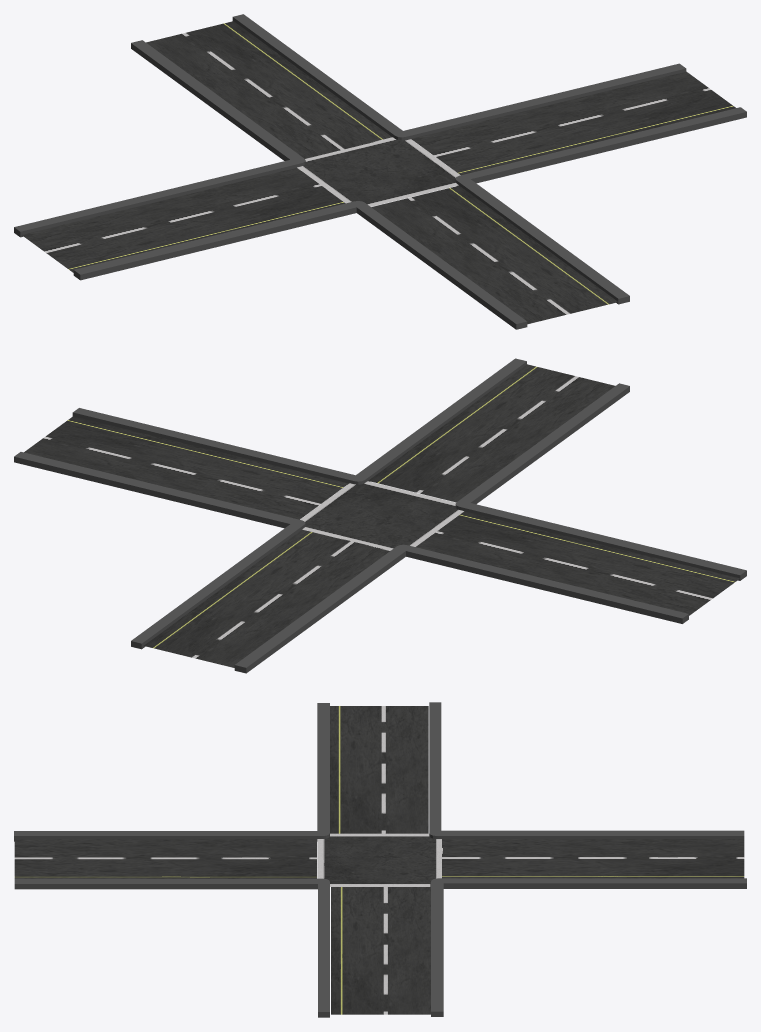
The model's file is 2-Lane-Four-way-intersection.fbx.
3 renders of one model, top to bottom at view 1: azimuth 30°, elevation 25°; view 2: azimuth 150°, elevation 25°; view 3: azimuth 270°, elevation 25°, orthographic. The views are drawn at different scales.
Visible parts, largest first — view 1: polySurface28, polySurface26, polySurface27, polySurface25, polySurface24, pCube49, pCube47, pCube48, pCube46; view 2: polySurface28, polySurface26, polySurface27, polySurface25, polySurface24, pCube48, pCube46, pCube49, pCube47; view 3: polySurface27, polySurface25, polySurface28, polySurface26, polySurface24, pCube47, pCube46, pCube48, pCube49.
Boxes of the visible parts, <box> form: polySurface28: <box>371,185,617,324</box>; polySurface26: <box>146,21,391,158</box>; polySurface27: <box>411,71,735,175</box>; polySurface25: <box>22,168,345,272</box>; polySurface24: <box>297,137,460,206</box>; pCube49: <box>73,201,527,329</box>; pCube47: <box>455,107,746,304</box>; pCube48: <box>14,40,305,237</box>; pCube46: <box>232,14,686,140</box>; polySurface28: <box>368,364,614,502</box>; polySurface26: <box>144,529,389,667</box>; polySurface27: <box>24,416,348,519</box>; polySurface25: <box>416,511,739,615</box>; polySurface24: <box>300,481,463,550</box>; pCube48: <box>234,544,688,673</box>; pCube46: <box>14,452,305,649</box>; pCube49: <box>455,383,746,580</box>; pCube47: <box>72,358,526,484</box>; polySurface27: <box>331,887,430,1014</box>; polySurface25: <box>330,706,428,833</box>; polySurface28: <box>14,839,316,878</box>; polySurface26: <box>442,839,744,878</box>; polySurface24: <box>317,833,442,886</box>; pCube47: <box>14,878,329,1017</box>; pCube46: <box>431,878,746,1016</box>; pCube48: <box>429,702,744,838</box>; pCube49: <box>14,703,329,841</box>.
Size of the model in its own units: 231 by 1.88 by 231.
Materials: 3 (2 with a texture image).
